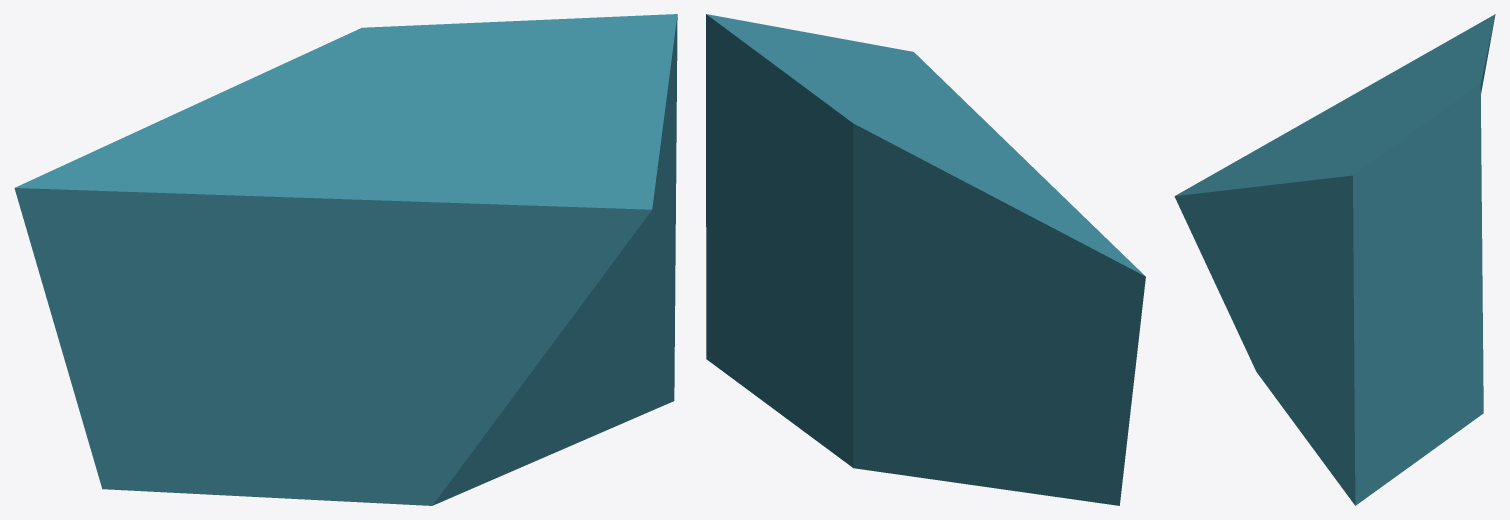
3 views of the same model, side by side, from view 1: azimuth 30°, elevation 25°; view 2: azimuth 150°, elevation 25°; view 3: azimuth 270°, elevation 25° (orthographic). The views are drawn at different scales.
Visible parts, largest first — view 1: Cube.014; view 2: Cube.014; view 3: Cube.014.
Boxes of the visible parts, left/top/right/bottom form: Cube.014: left=14, top=14, right=677, bottom=505; Cube.014: left=706, top=14, right=1145, bottom=505; Cube.014: left=1174, top=14, right=1495, bottom=505.
Size of the model in its own units: 1.31 by 0.857 by 0.7359.
